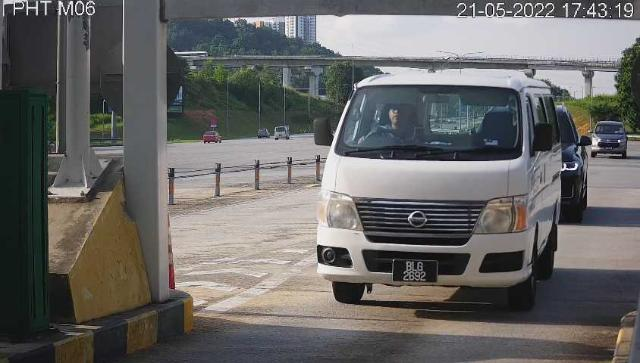License_Plate: (392, 260, 442, 287)
van: (318, 73, 563, 314)
